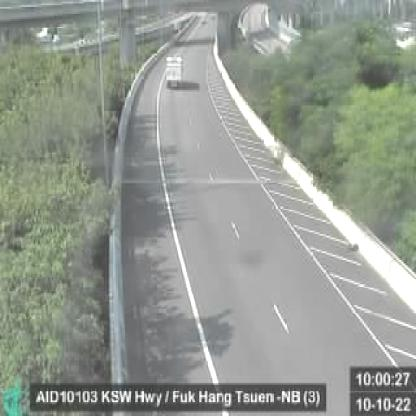Truck: (165, 53, 184, 91)
